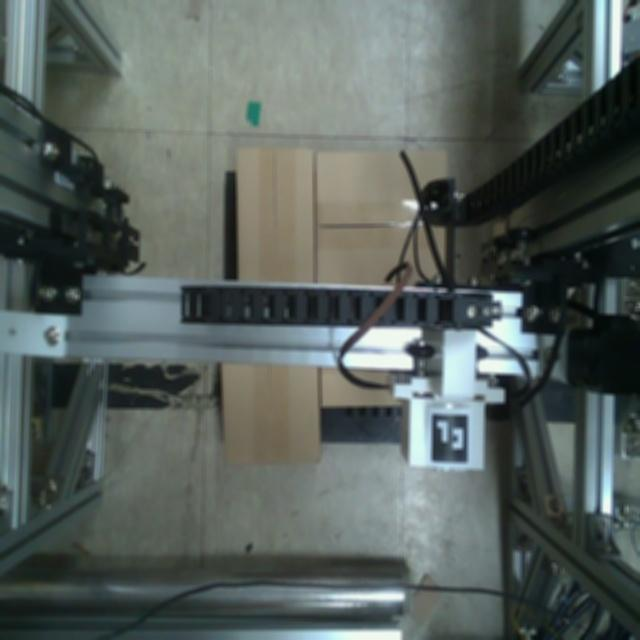box: (236, 146, 316, 286)
